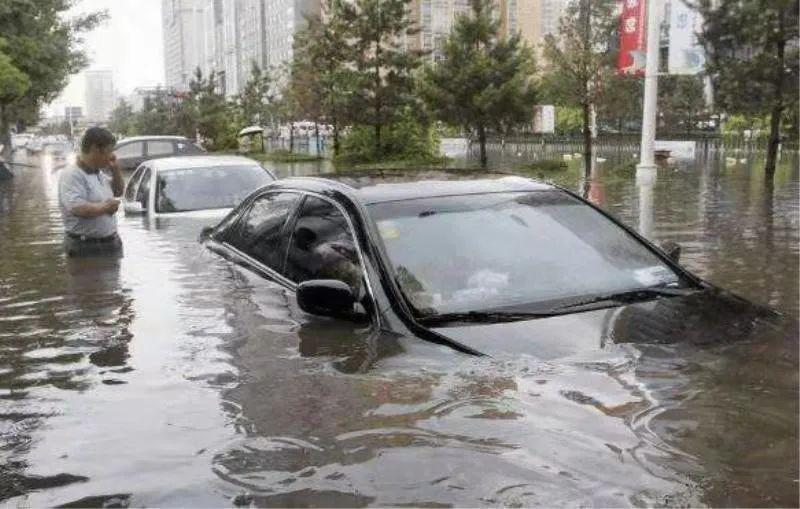water: (2, 155, 799, 507)
